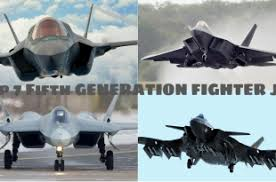fighter: (1, 94, 138, 172), (1, 4, 139, 80), (139, 111, 275, 172), (142, 20, 276, 69)
